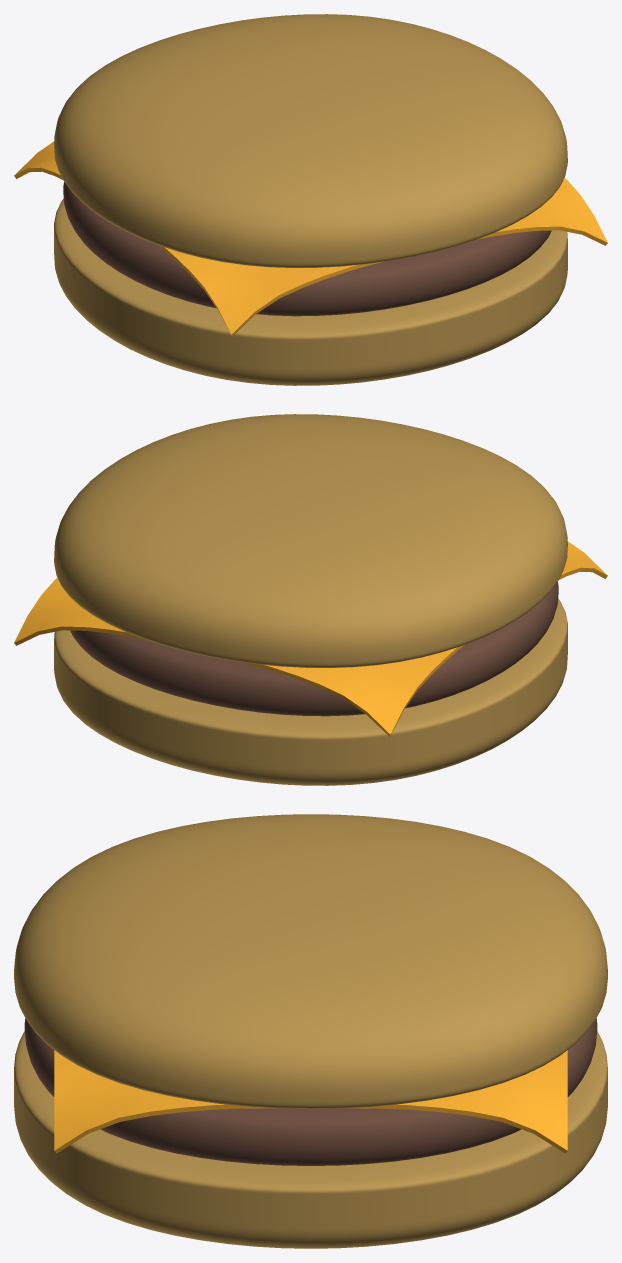
File: hamburger.glb
The picture shows the model from 3 angles, top to bottom: view 1: azimuth 30°, elevation 25°; view 2: azimuth 150°, elevation 25°; view 3: azimuth 270°, elevation 25°; orthographic projection. The views are drawn at different scales.
Parts seen in each view (by area): view 1: Cube.002, Cube, Cube.001, Plane; view 2: Cube.002, Cube, Cube.001, Plane; view 3: Cube.002, Cube, Cube.001, Plane.
Boxes of the visible parts, box(x1,y1,x2,y2) form: Cube.002: box(54, 14, 567, 267); Cube: box(54, 199, 567, 385); Cube.001: box(63, 182, 551, 316); Plane: box(14, 141, 607, 336); Cube.002: box(54, 414, 567, 667); Cube: box(54, 599, 567, 785); Cube.001: box(70, 582, 558, 716); Plane: box(14, 541, 607, 736); Cube.002: box(14, 814, 607, 1108); Cube: box(14, 1031, 607, 1248); Cube.001: box(24, 1018, 597, 1165); Plane: box(54, 1050, 567, 1153).
Size of the model in its own units: 9.17 by 4.44 by 9.17.
